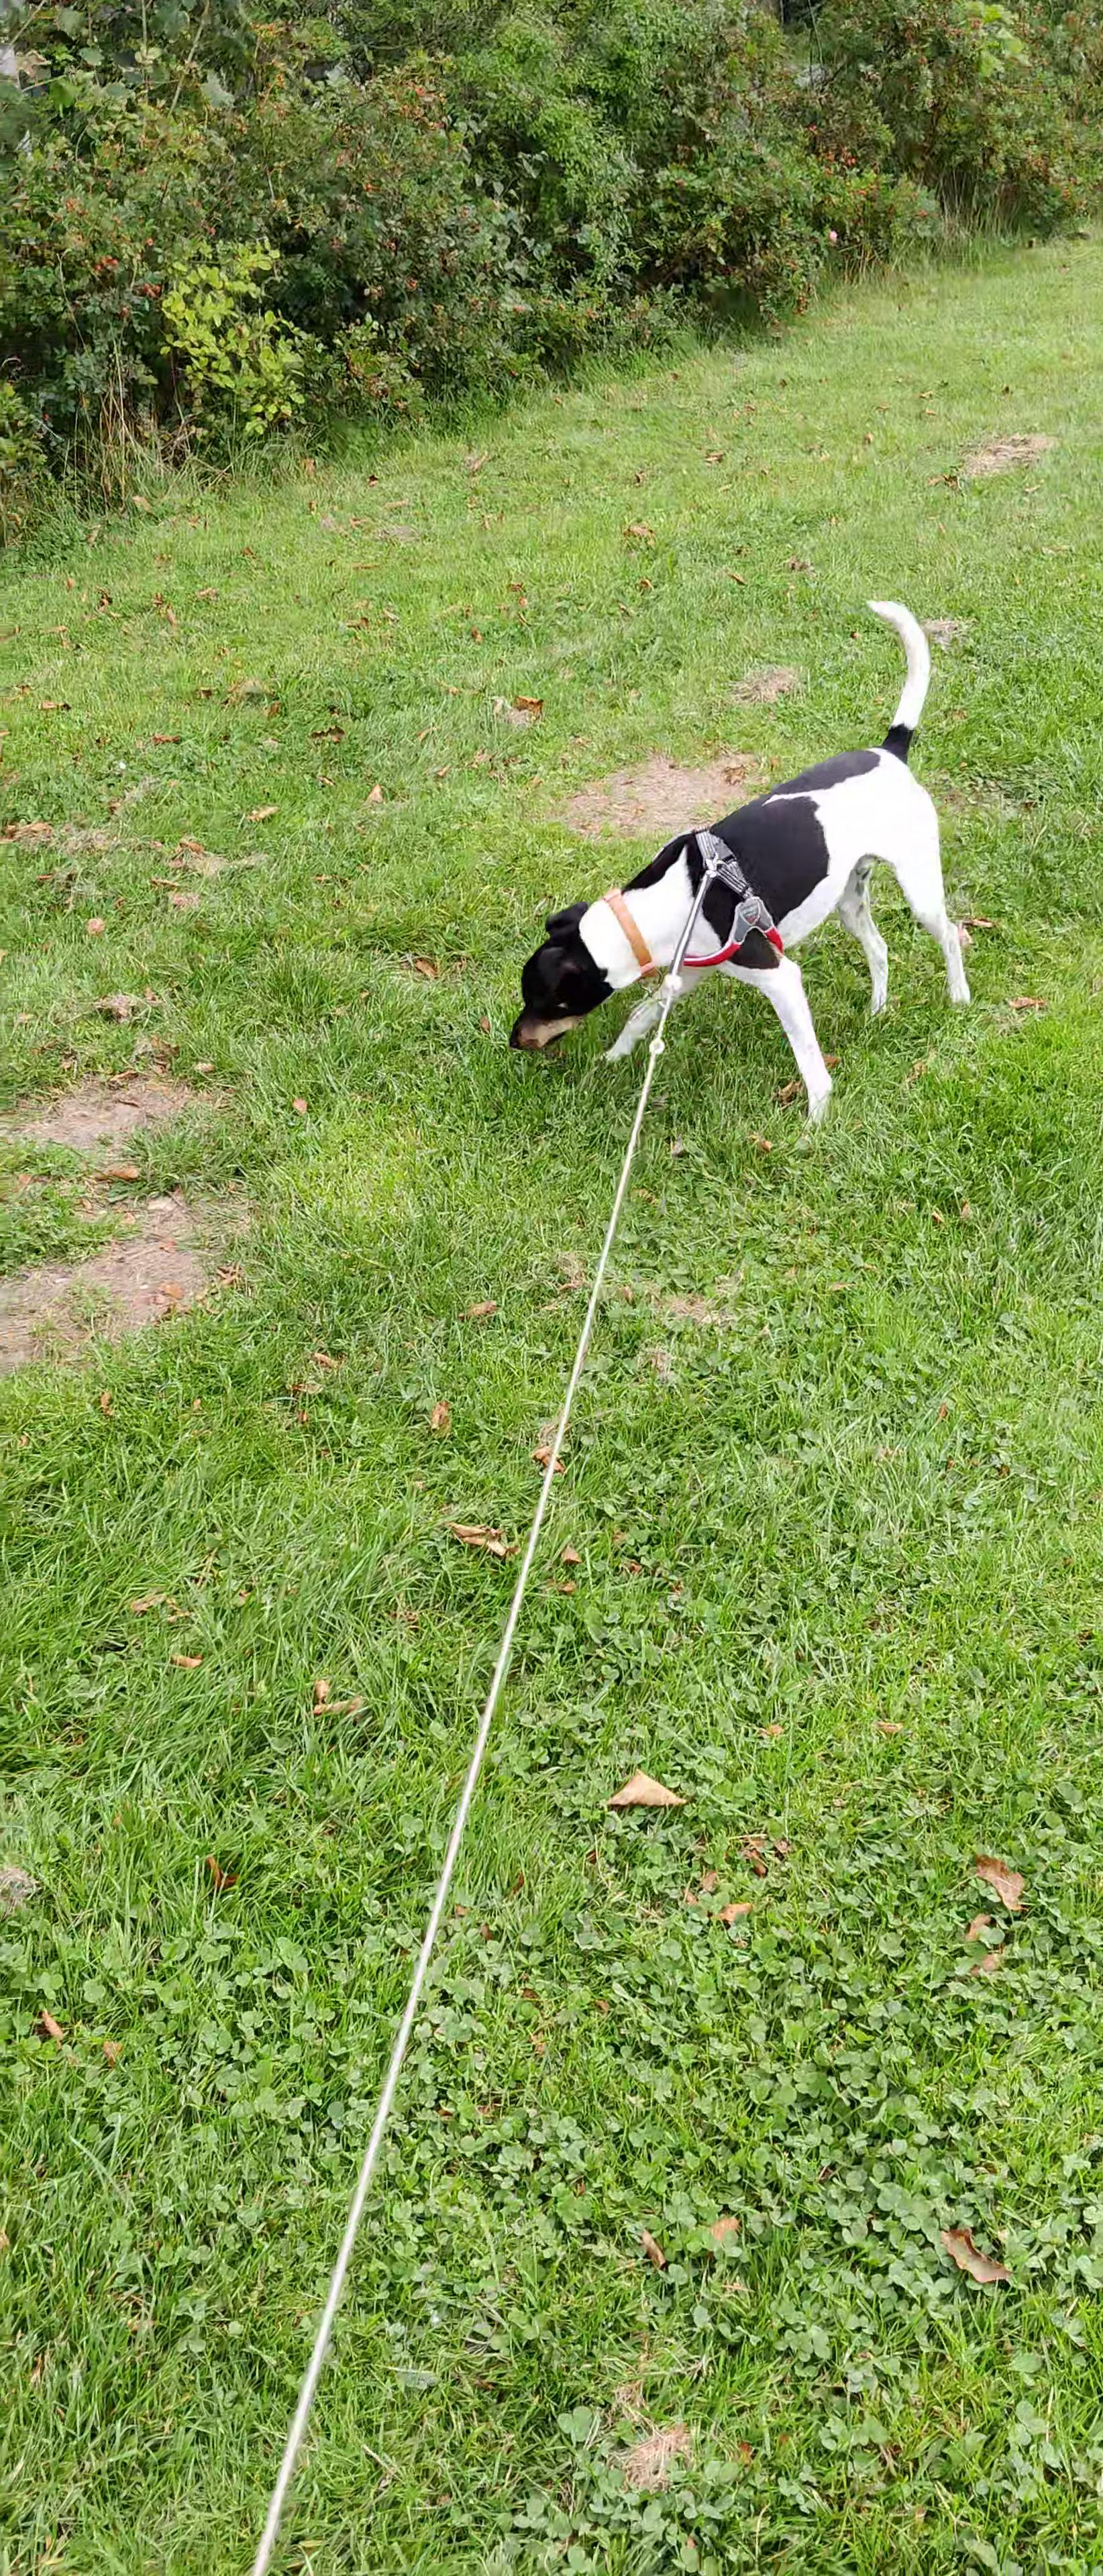Dog: (496, 578, 999, 1150)
